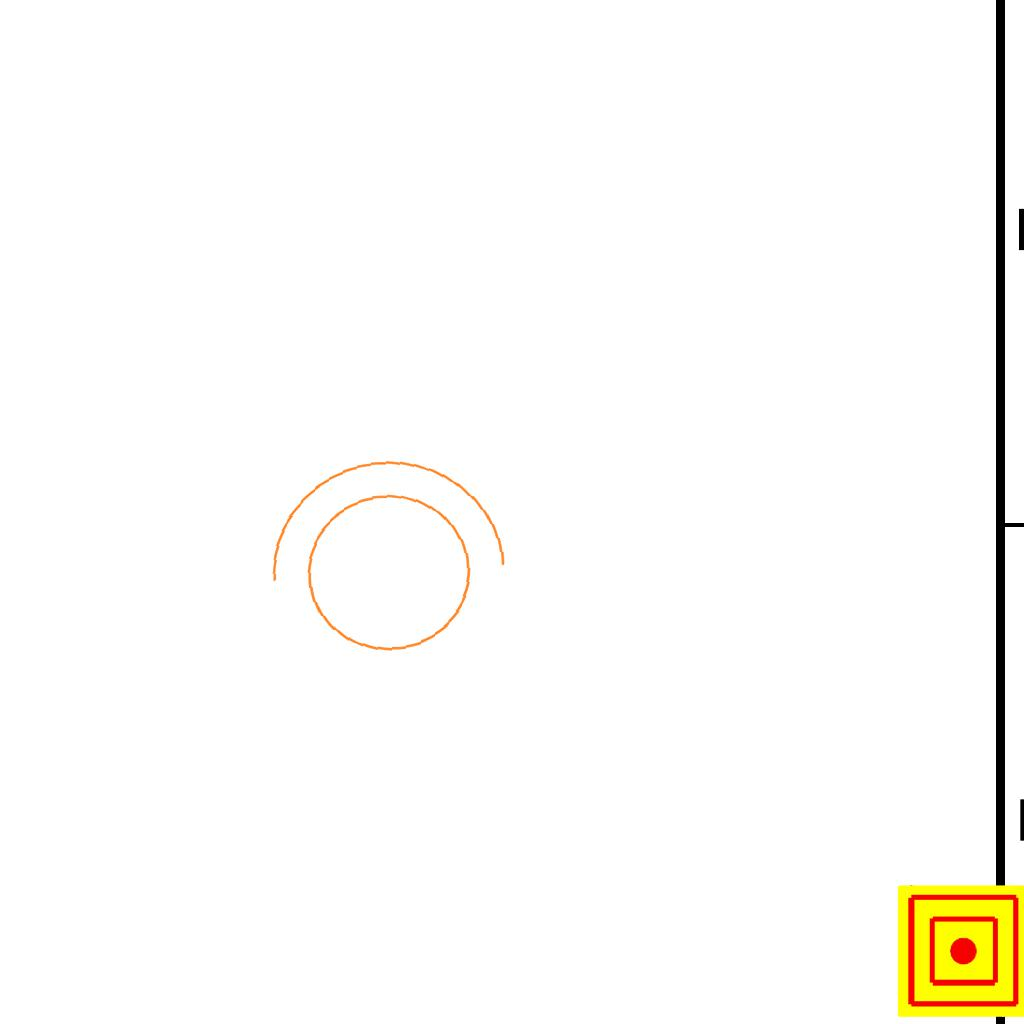NAM-Nichtautomatischer_Melder: (897, 885, 1024, 1017)
Scheinwerfer_fuer_Alarmbeleuchtung: (242, 442, 522, 685)
